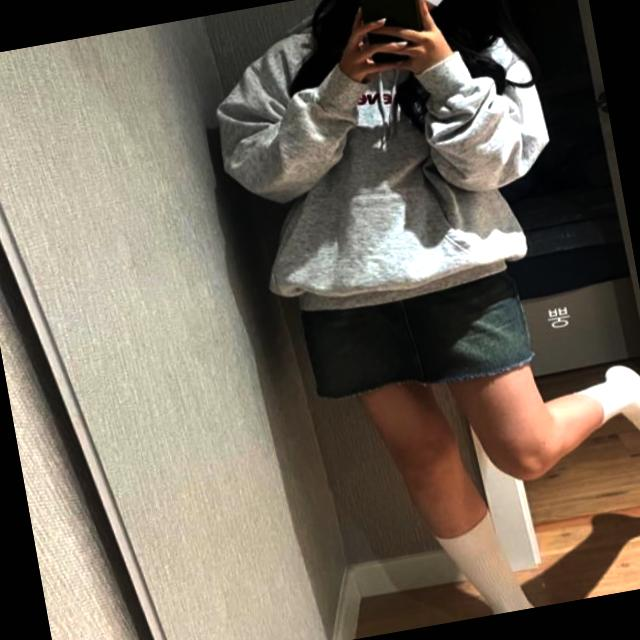hoodies: (203, 0, 572, 322)
skirt: (299, 257, 539, 405)
